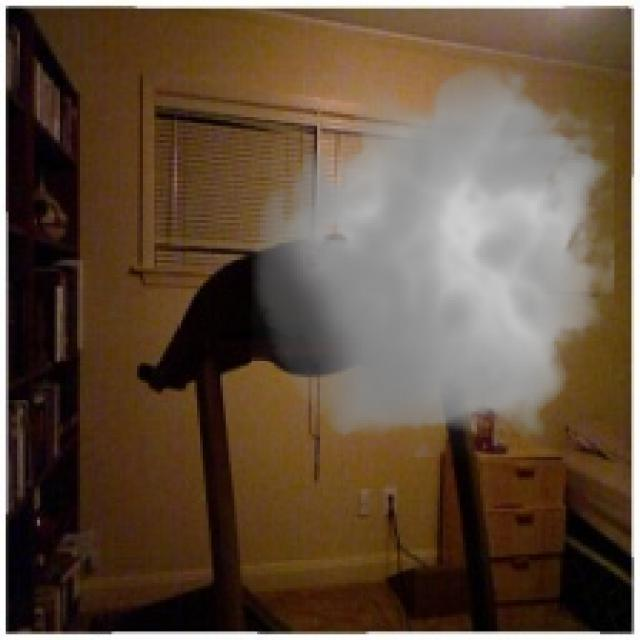smoke: (240, 49, 631, 457)
